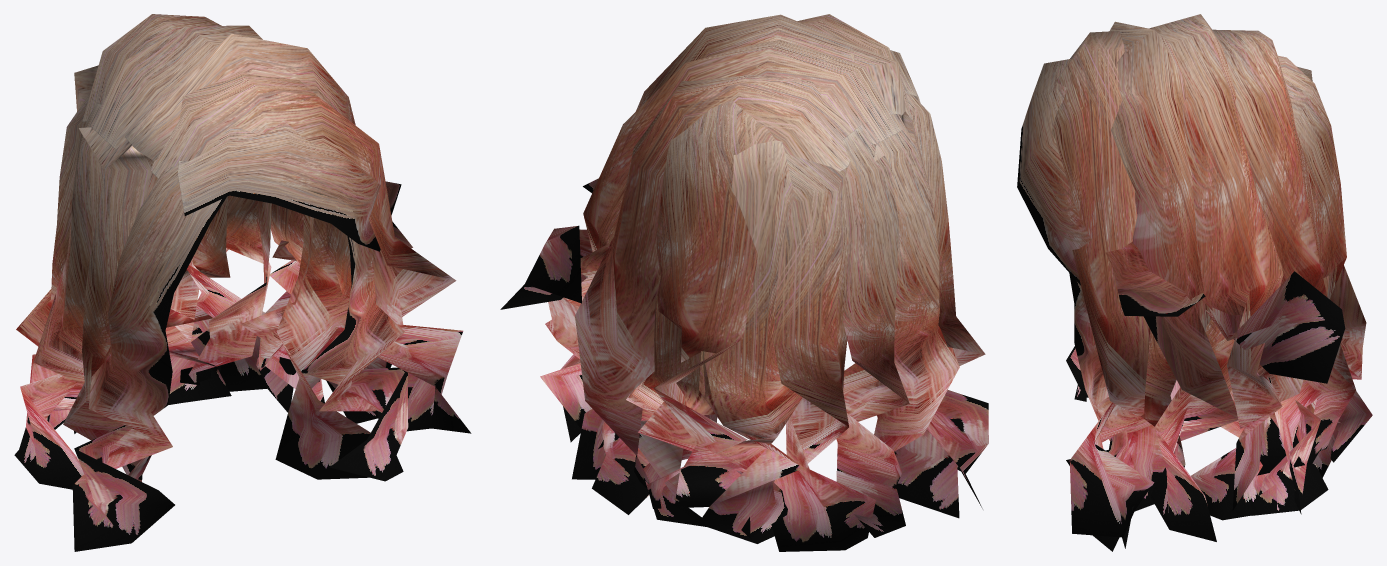
File: strawberry.glb
3 renders of one model, left to right at view 1: azimuth 30°, elevation 25°; view 2: azimuth 150°, elevation 25°; view 3: azimuth 270°, elevation 25°, orthographic. The views are drawn at different scales.
Visible parts, largest first — view 1: strawberry_bllonde2-strawberry_cloud; view 2: strawberry_bllonde2-strawberry_cloud; view 3: strawberry_bllonde2-strawberry_cloud.
Part boxes in pixels (x1,y1,x2,y2): strawberry_bllonde2-strawberry_cloud: (14, 14, 471, 551); strawberry_bllonde2-strawberry_cloud: (500, 14, 988, 551); strawberry_bllonde2-strawberry_cloud: (1017, 14, 1372, 551).
Size of the model in its own units: 0.261 by 0.303 by 0.2142.
1 material, 1 textured.
